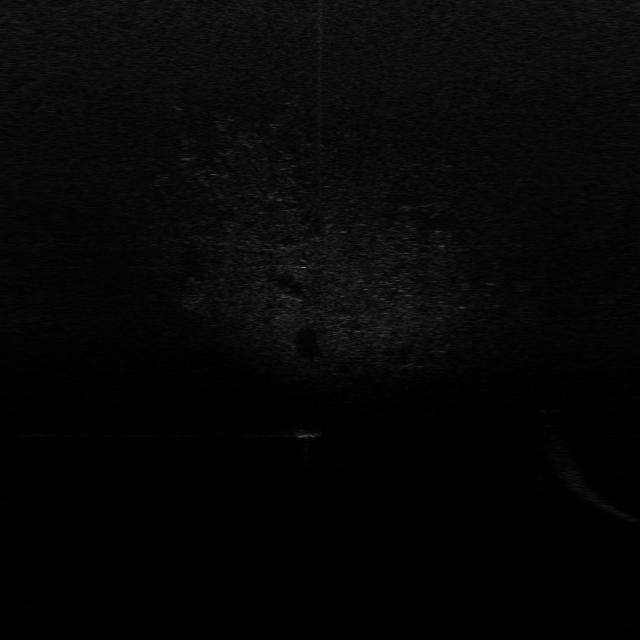square cage: (289, 423, 323, 440)
